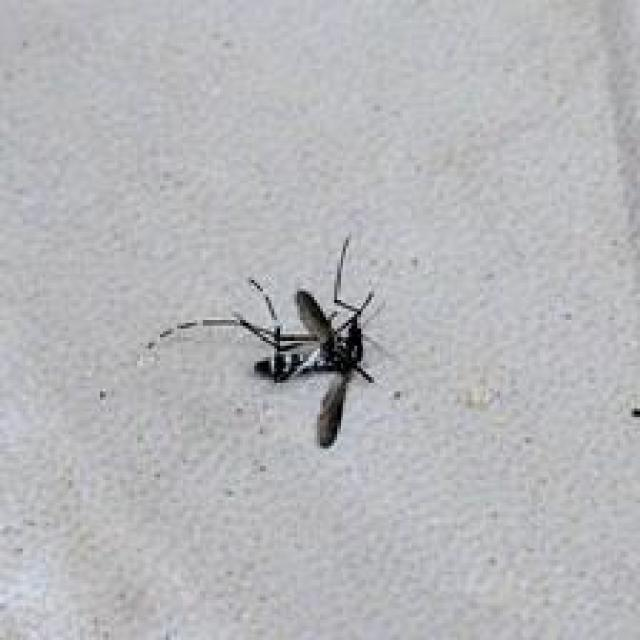Aedes albopictus: (146, 233, 391, 450)
